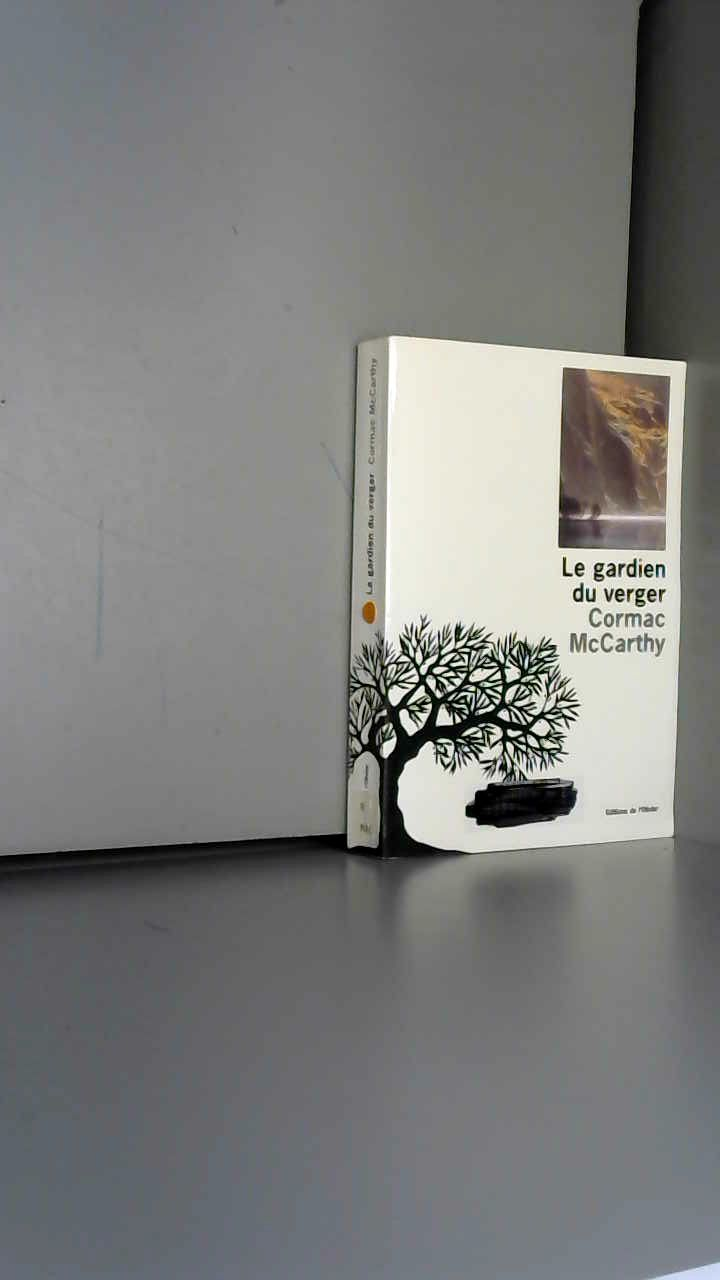book: (320, 310, 715, 884)
